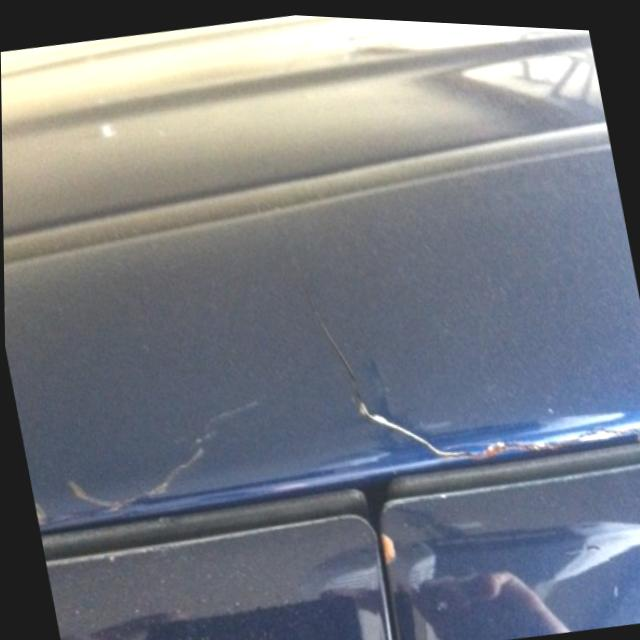Paint-Crack: (290, 268, 639, 467)
Rust: (59, 400, 255, 516), (34, 498, 51, 534)
